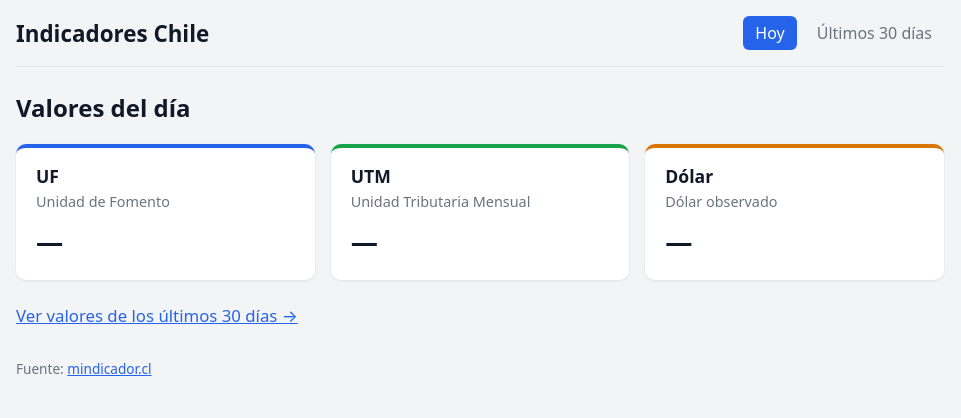
App › navega de la portada al histórico
The width and height of the screenshot is (961, 418).
Click the link "Ver valores de los últimos 30 días →": click(157, 315) top-left (16, 304), bottom-right (298, 327)
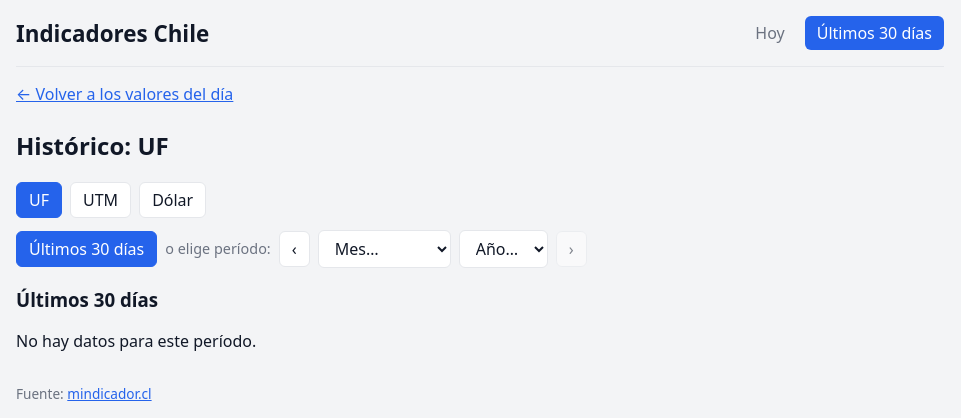
Check: the heading "Histórico: UF" is shown, box top-left (16, 129), bottom-right (169, 162)
